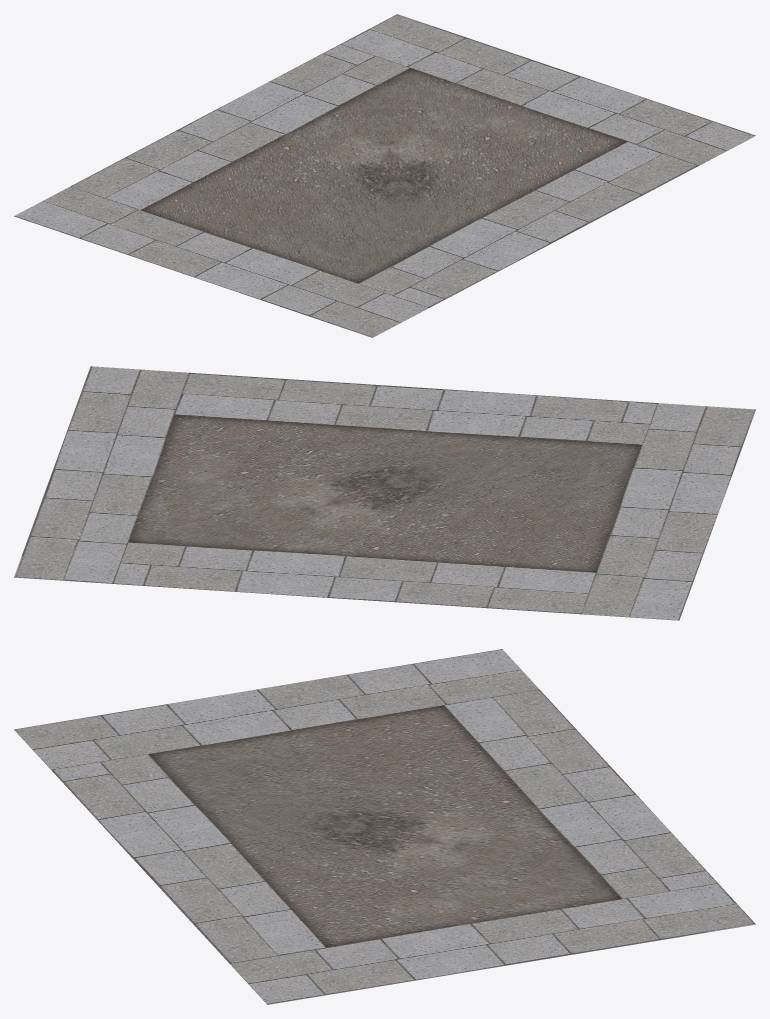
File: TreeBase_A.FBX
3 views of the same model, one above another, from view 1: azimuth 30°, elevation 25°; view 2: azimuth 150°, elevation 25°; view 3: azimuth 270°, elevation 25° (orthographic). The views are drawn at different scales.
Visible parts, largest first — view 1: TreeBase_A; view 2: TreeBase_A; view 3: TreeBase_A.
Part boxes in pixels (bbox=[...]): TreeBase_A: bbox=[14, 14, 755, 337]; TreeBase_A: bbox=[14, 366, 755, 620]; TreeBase_A: bbox=[14, 649, 755, 1004].
Size of the model in its own units: 241 by 0.1 by 212.
Materials: 1 (1 with a texture image).
